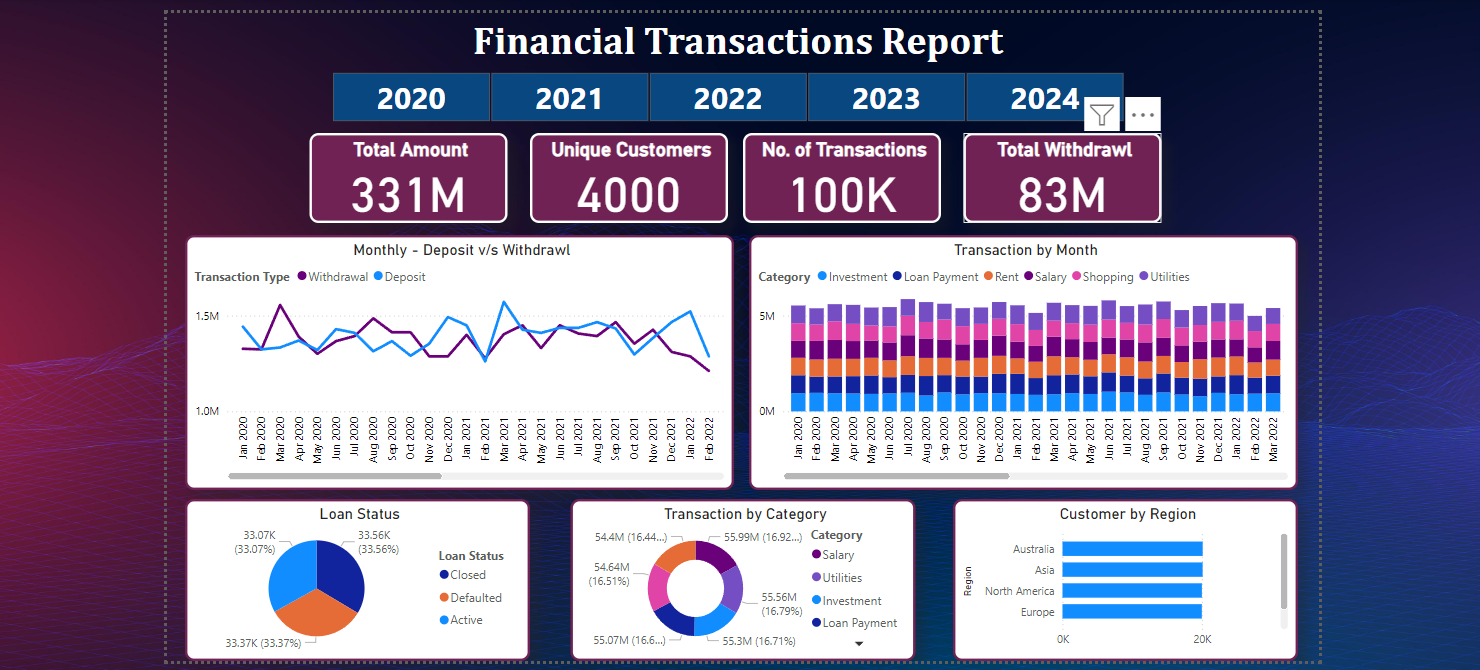

The page's visual inventory and layout, read from the dashboard file:
{"tool":"powerbi","page":{"name":"Transaction_Report","canvas":[1280,720],"ordinal":0},"visuals":[{"type":"textbox","box":[335,0,610,63.3],"z":0},{"type":"slicer","fields":{"Values":["Table1.Year"]},"box":[163.3,63.3,918.3,58.3],"z":1000},{"type":"card","title":"Total Amount","fields":{"Values":["Table1.Total Amount"]},"box":[158.3,133.3,220,100],"z":2000},{"type":"card","title":"No. of Transactions","fields":{"Values":["Table1.Total Transactions"]},"box":[640,133.3,220,100],"z":4000},{"type":"card","title":"Total Withdrawl","fields":{"Values":["Table1.Total Withdrawals"]},"box":[885,133.3,220,100],"z":5000},{"type":"card","title":"Unique Customers","fields":{"Values":["Table1.Unique Customers"]},"box":[403.3,133.3,220,100],"z":6000},{"type":"lineChart","title":"Monthly - Deposit v/s Withdrawl","fields":{"Category":["Table1.MonthYear"],"Series":["Table1.Transaction Type"],"Y":["Table1.Total Amount"]},"box":[20,246.7,610,283.3],"z":7000},{"type":"columnChart","title":"Transaction by Month","fields":{"Category":["Table1.MonthYear"],"Y":["Table1.Total Amount"],"Series":["Table1.Category"]},"box":[646.7,246.7,610,283.3],"z":8000},{"type":"donutChart","title":"Transaction by Category","fields":{"Category":["Table1.Category"],"Y":["Sum(Table1.Amount)"]},"box":[448.3,540,383.3,180],"z":9000},{"type":"pieChart","title":"Loan Status","fields":{"Category":["Table1.Loan Status"],"Y":["CountNonNull(Table1.Customer ID)"]},"box":[20,540,383,180],"z":10000},{"type":"clusteredBarChart","title":"Customer by Region","fields":{"Category":["Table1.Region"],"Y":["CountNonNull(Table1.Customer ID)"]},"box":[873.3,540,383.3,180],"z":11000}]}

Visuals, with their boxes in screenshot pixels (x1, y1, x2, y2):
textbox: pyautogui.locateOnScreen(466, 15, 1007, 72)
slicer - Table1.Year: pyautogui.locateOnScreen(314, 72, 1128, 123)
"Total Amount" card: pyautogui.locateOnScreen(310, 134, 505, 222)
"No. of Transactions" card: pyautogui.locateOnScreen(737, 134, 932, 222)
"Total Withdrawl" card: pyautogui.locateOnScreen(954, 134, 1149, 222)
"Unique Customers" card: pyautogui.locateOnScreen(527, 134, 722, 222)
"Monthly - Deposit v/s Withdrawl" lineChart: pyautogui.locateOnScreen(187, 234, 728, 485)
"Transaction by Month" columnChart: pyautogui.locateOnScreen(743, 234, 1283, 485)
"Transaction by Category" donutChart: pyautogui.locateOnScreen(567, 494, 906, 653)
"Loan Status" pieChart: pyautogui.locateOnScreen(187, 494, 527, 653)
"Customer by Region" clusteredBarChart: pyautogui.locateOnScreen(943, 494, 1283, 653)
